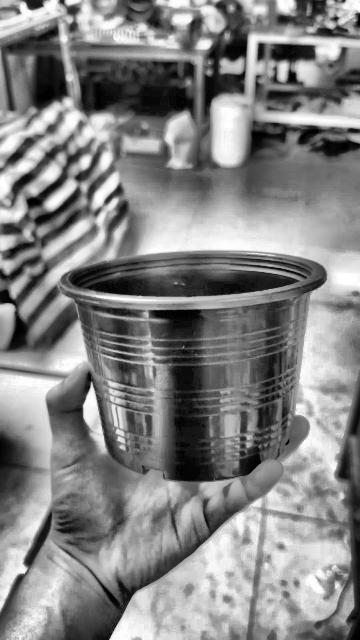pot: (60, 252, 325, 481)
